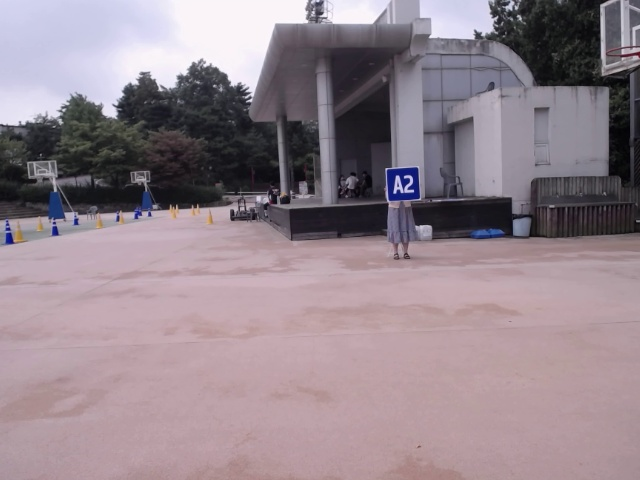delivery_a2: (386, 167, 420, 202)
